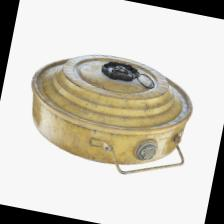TM-46: (4, 28, 224, 208)
